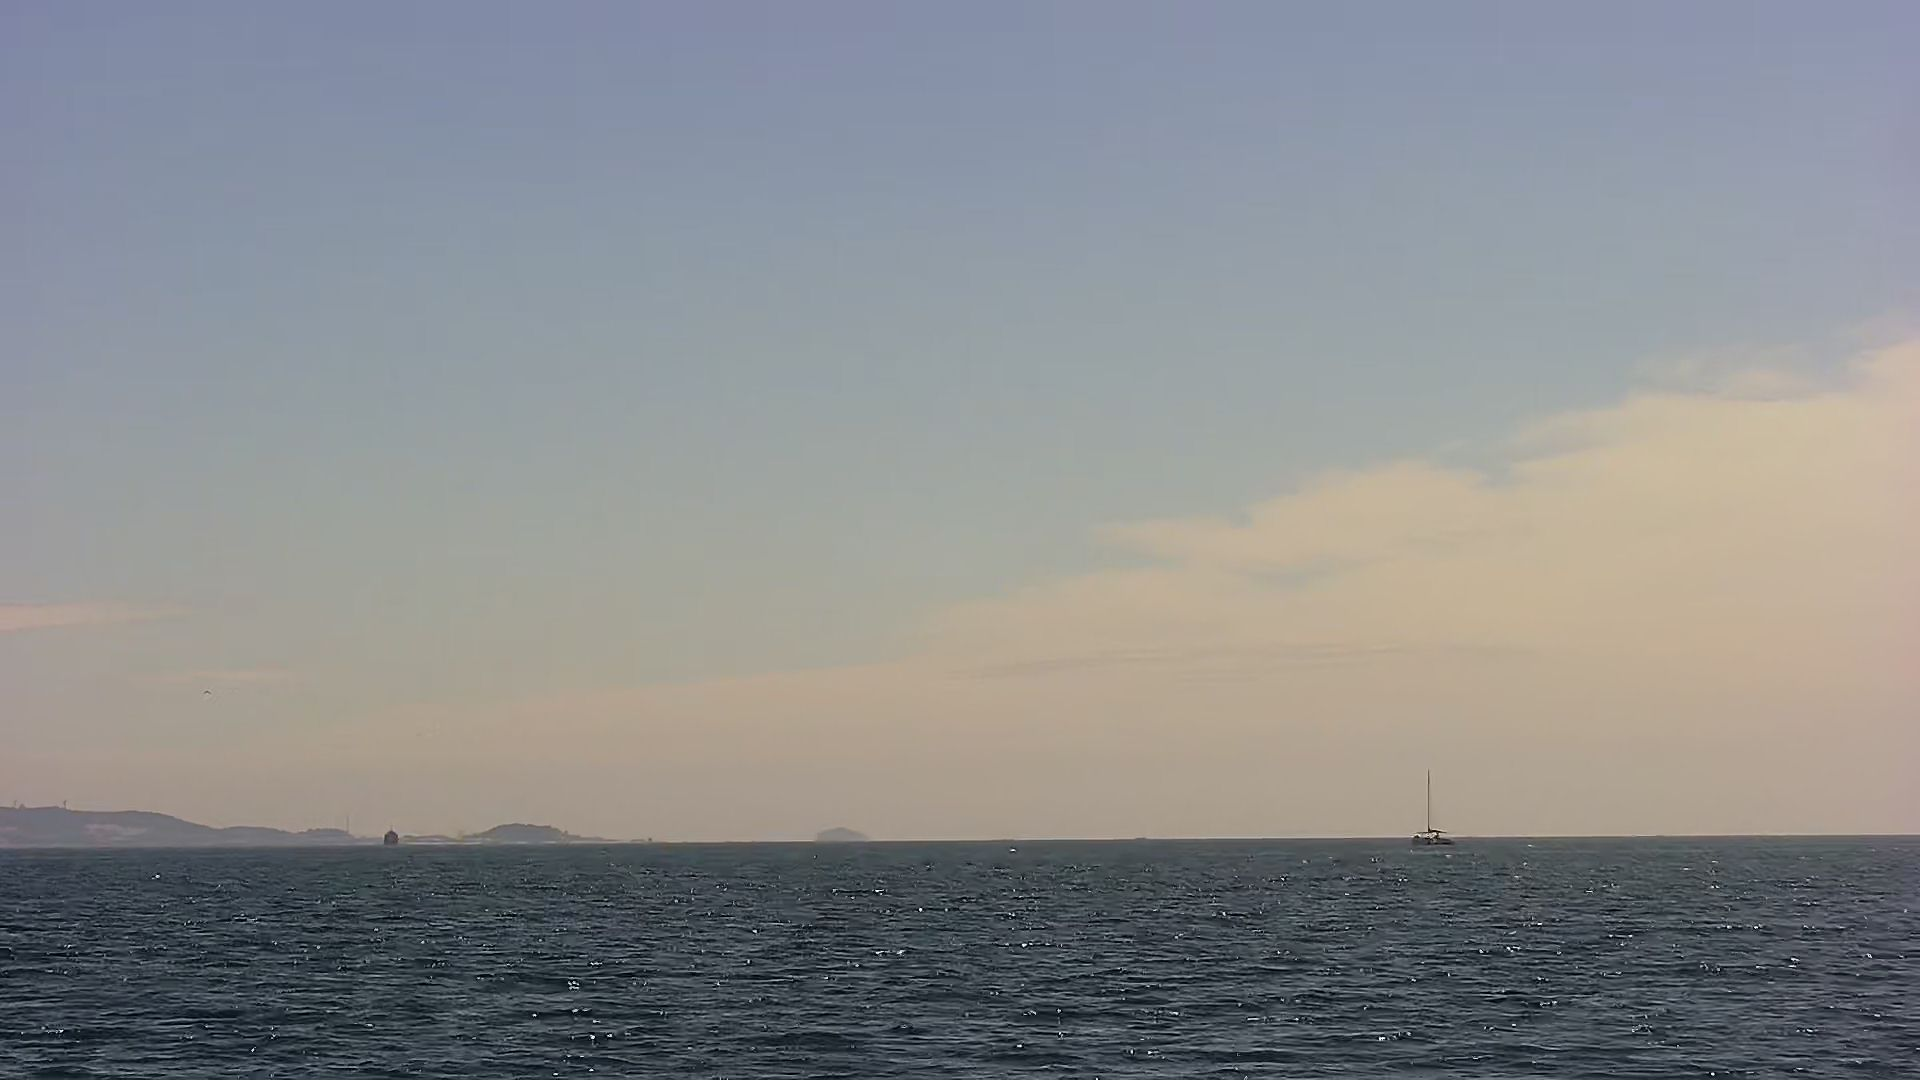boat: (1410, 771, 1466, 855)
rock: (810, 818, 881, 849)
